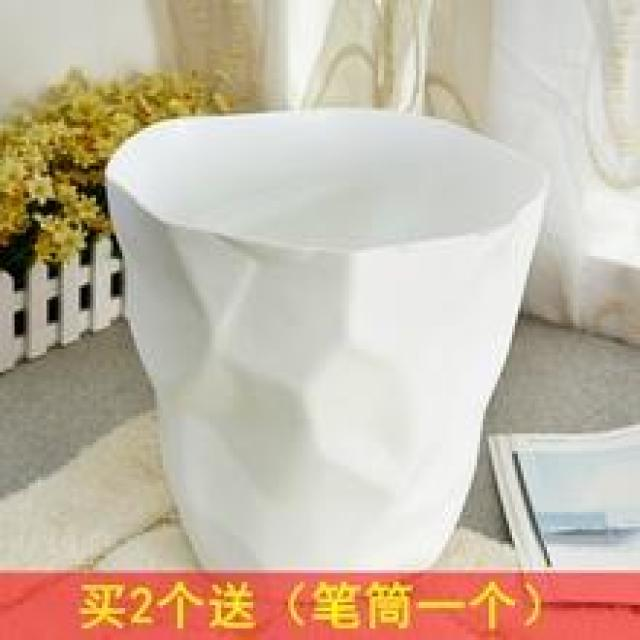dustbin: (104, 100, 553, 570)
